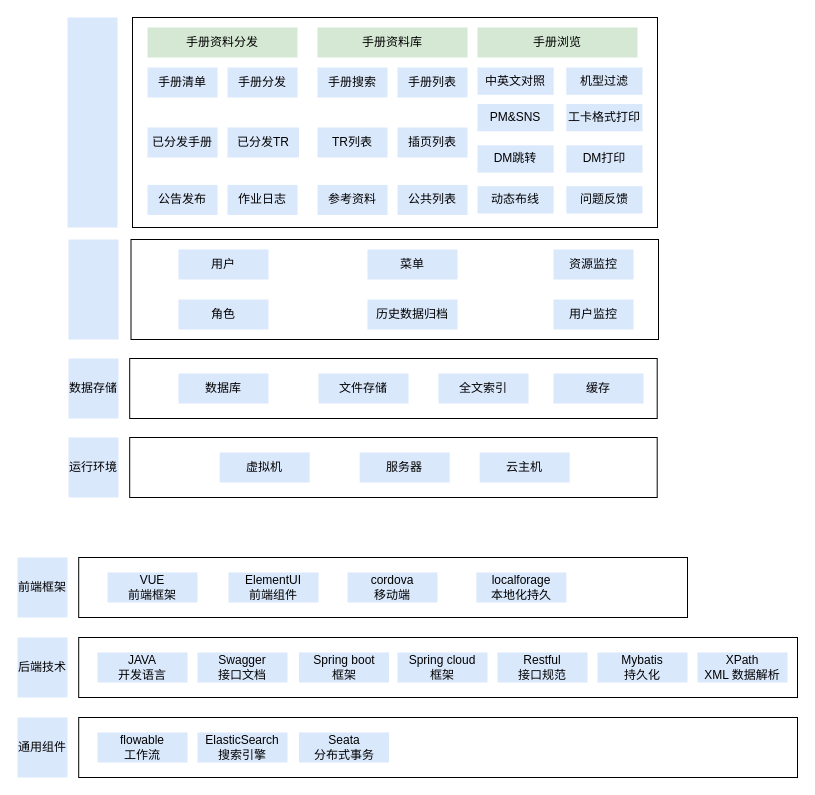
Image size: 815x795. Some labels were removed from this diagram. The shapes that lost their labels are listed below. From the top down, each one's centre as x and y in pixels, then its label:
At (x=92, y=122): "应用 服务".
At (x=93, y=289): "基础服务".
